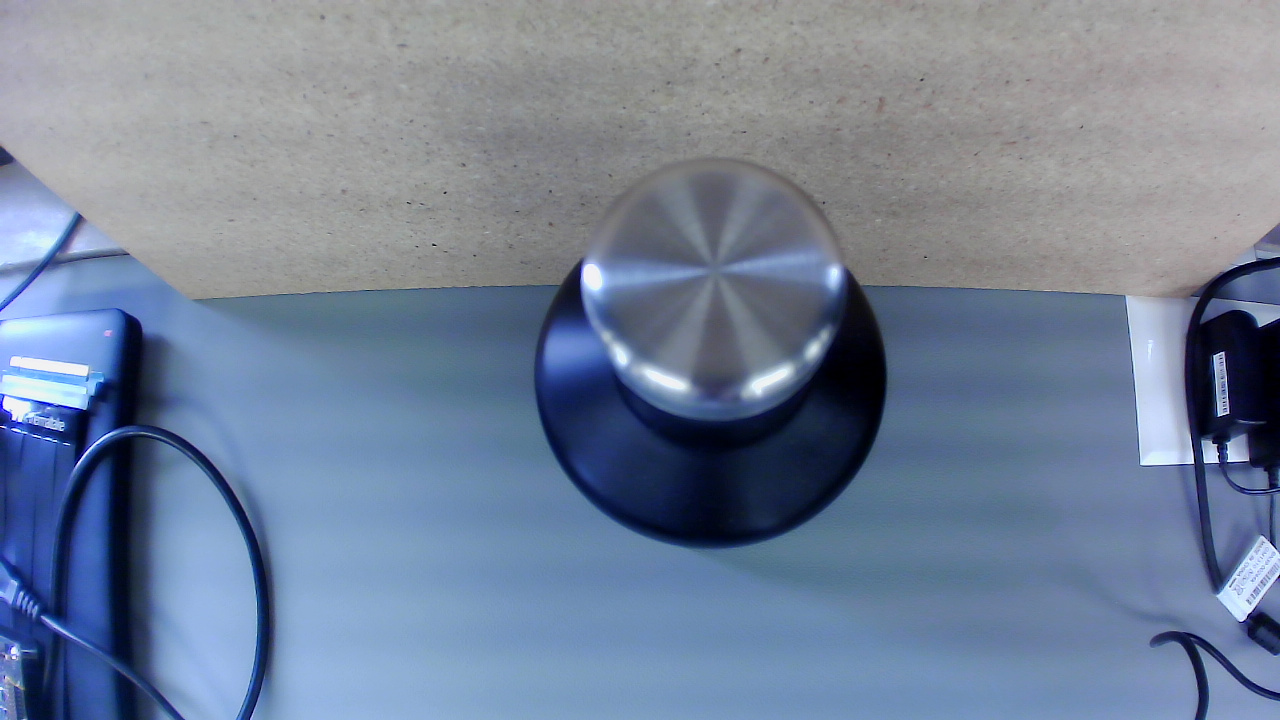neobottle: (528, 147, 895, 563)
